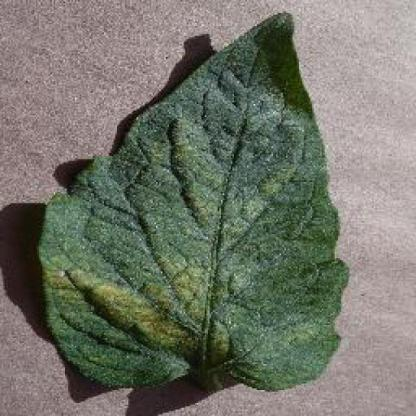Tomato_Spider_Mites: (39, 12, 348, 388)
